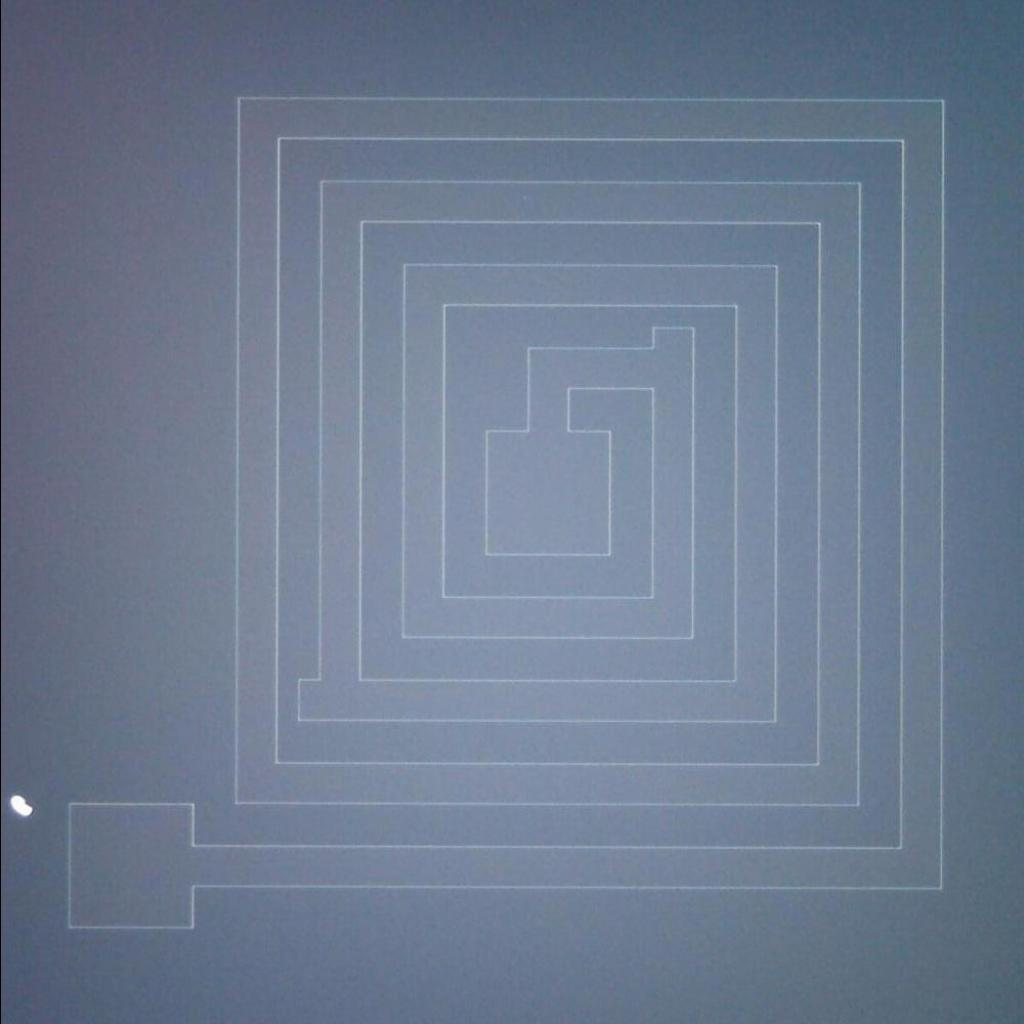budge circuit: (288, 665, 329, 734), (633, 320, 702, 355)
spot: (1, 782, 41, 830)
